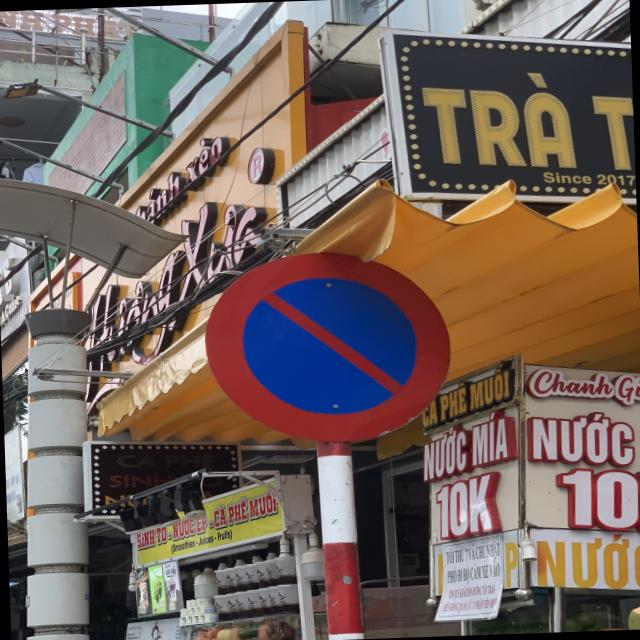Cam_Dau_Xe: (204, 246, 458, 449)
